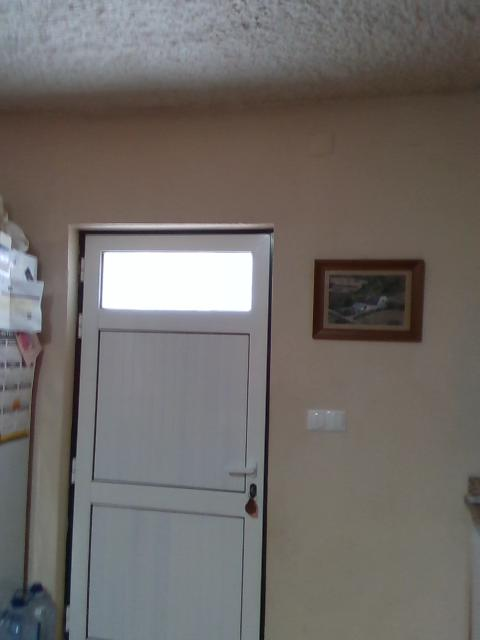door: (69, 229, 269, 640)
